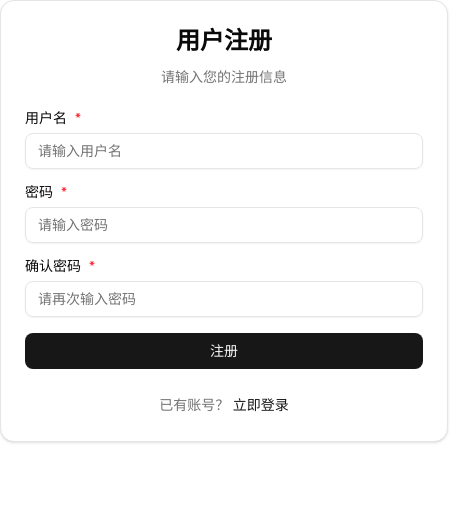
Test: RegisterForm › handles registration failure
Type "testuser" into the field labelled "用户名 *". click: (224, 151)
box: [25, 133, 423, 169]
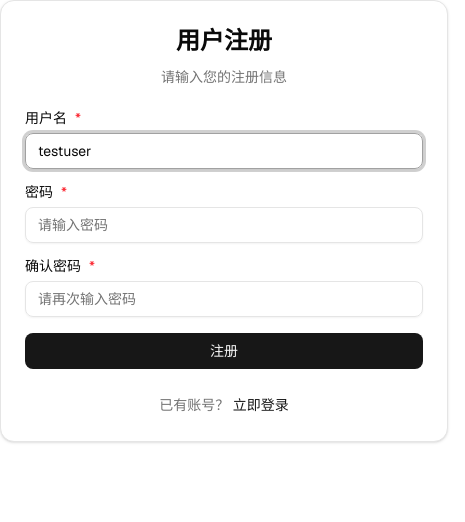
Type "password123" into the password field labelled "密码 *". click: (224, 225)
box: [25, 207, 423, 243]
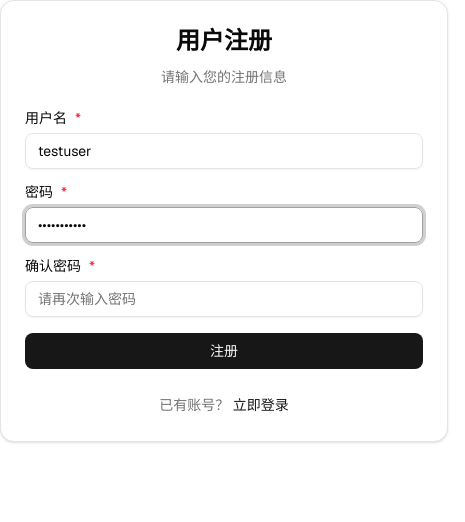
Type "password123" into the password field labelled "确认密码 *". click: (224, 299)
box: [25, 281, 423, 317]
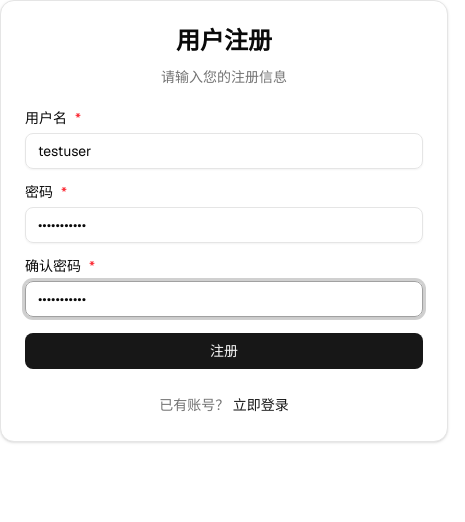
Click the button "注册". click: (224, 351)
box: [25, 333, 423, 369]
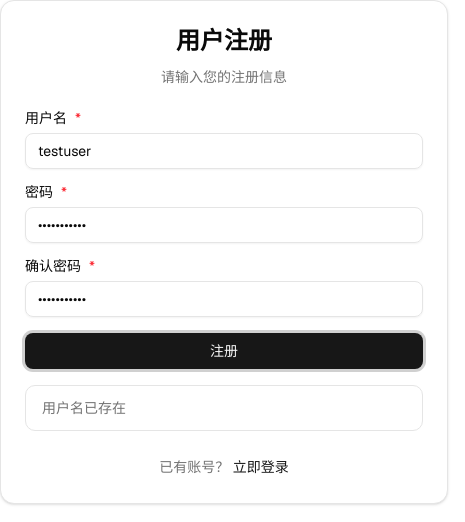
Expected: the text "用户名已存在" is shown, [42, 399, 126, 417]
